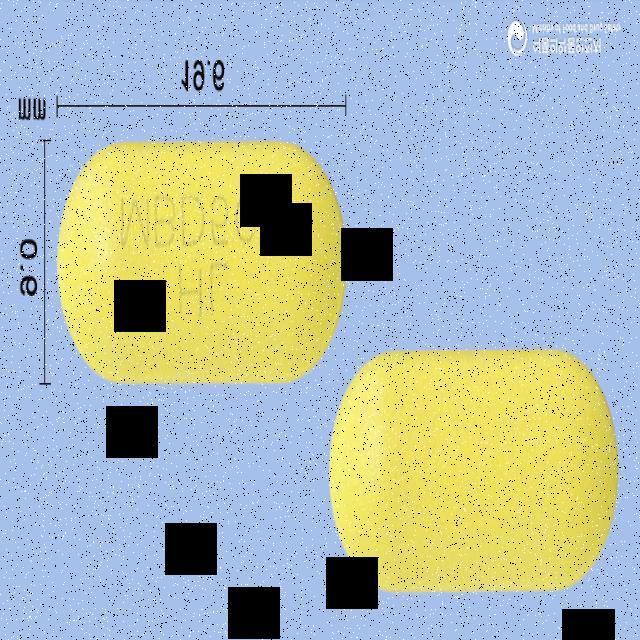Mabid: (58, 143, 348, 386), (330, 354, 620, 596)
